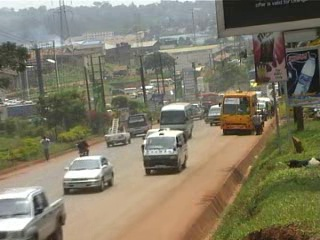Car: (60, 154, 115, 195), (190, 102, 204, 118)
Motorcycle: (74, 134, 91, 157), (200, 104, 210, 125)
